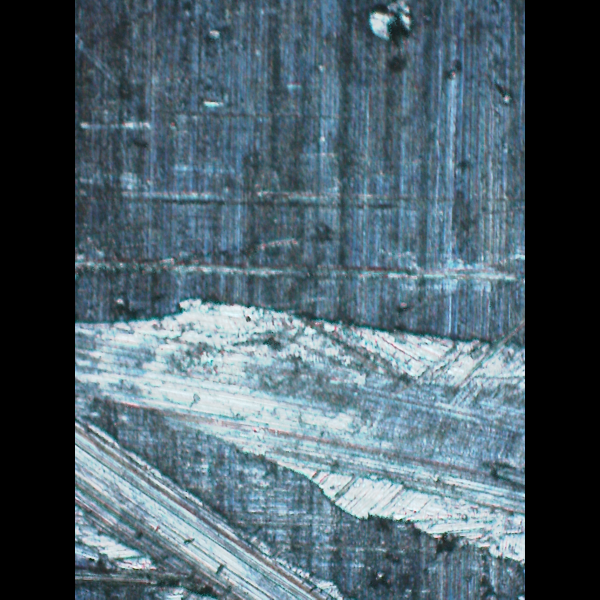d: (77, 284, 524, 599), (358, 0, 421, 70)
